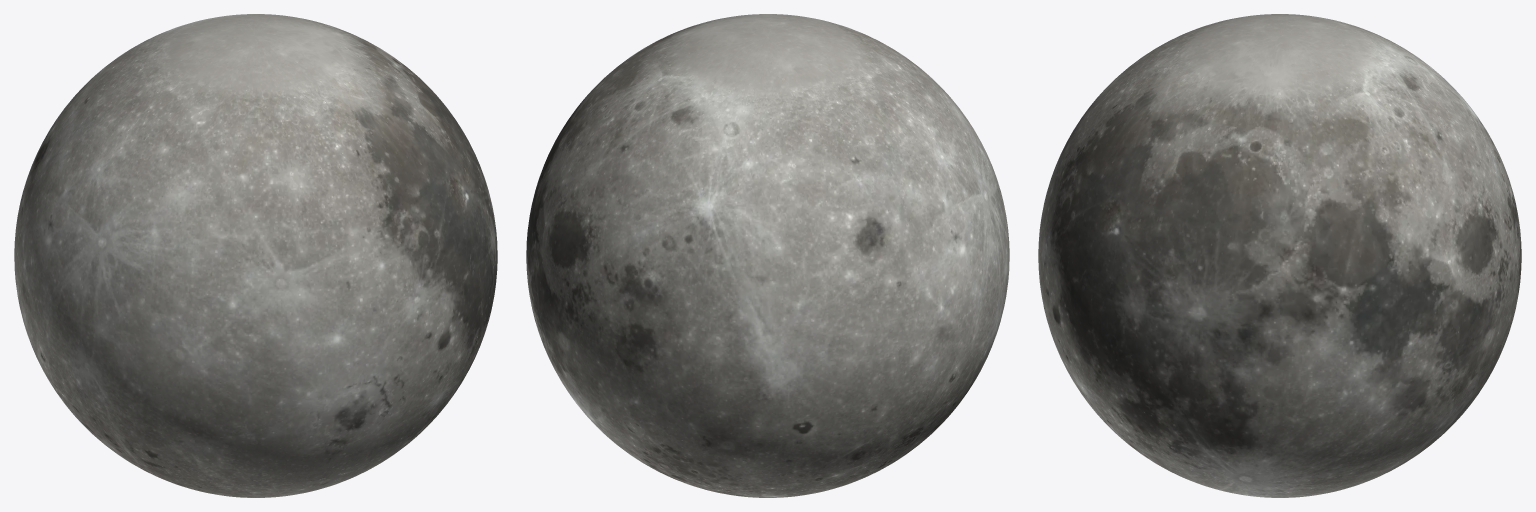
The model's file is moon.glb.
3 renders of one model, left to right at view 1: azimuth 30°, elevation 25°; view 2: azimuth 150°, elevation 25°; view 3: azimuth 270°, elevation 25°, orthographic.
Parts seen in each view (by area): view 1: moon; view 2: moon; view 3: moon.
Boxes of the visible parts, bbox=[...] form: moon: bbox=[14, 14, 497, 497]; moon: bbox=[526, 14, 1009, 497]; moon: bbox=[1038, 14, 1521, 497].
Size of the model in its own units: 1.99 by 2 by 1.99.
1 material, 1 textured.
